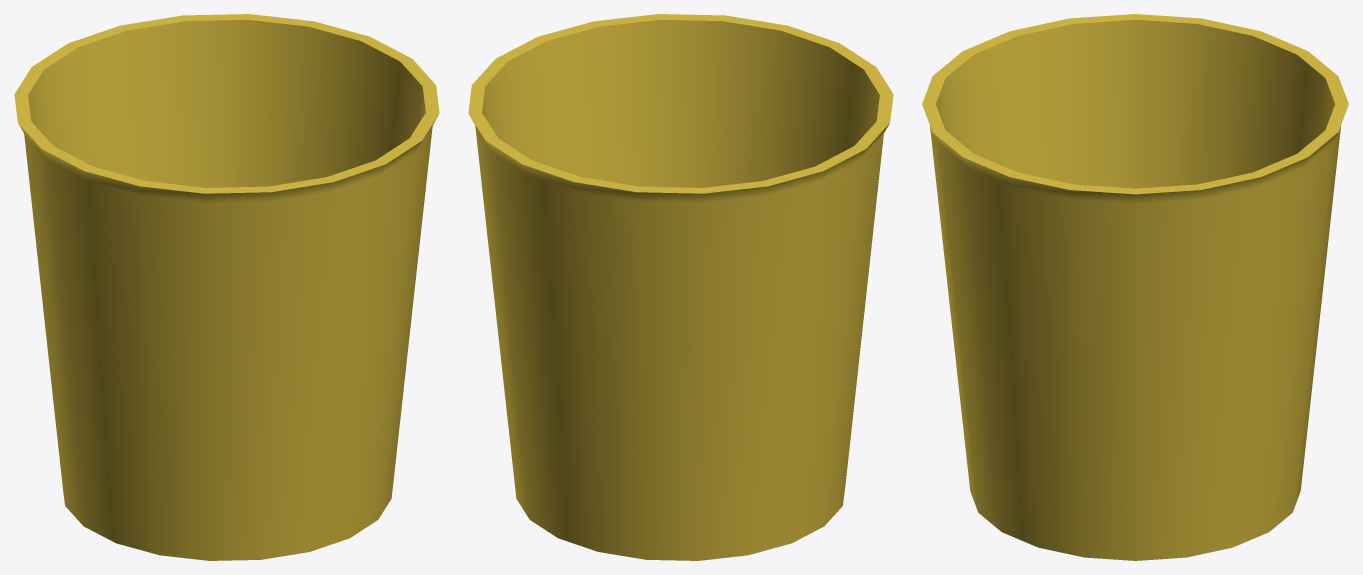
The model's file is SM_Bucket.fbx.
3 views of the same model, side by side, from view 1: azimuth 30°, elevation 25°; view 2: azimuth 150°, elevation 25°; view 3: azimuth 270°, elevation 25° (orthographic).
Visible parts, largest first — view 1: SM_Bucket_1; view 2: SM_Bucket_1; view 3: SM_Bucket_1.
Boxes of the visible parts, x1,y1,x2,y2 form: SM_Bucket_1: (14, 14, 439, 560); SM_Bucket_1: (468, 14, 893, 560); SM_Bucket_1: (922, 14, 1348, 560).
Bounding box in the file's own units: 31 × 31 × 31.
